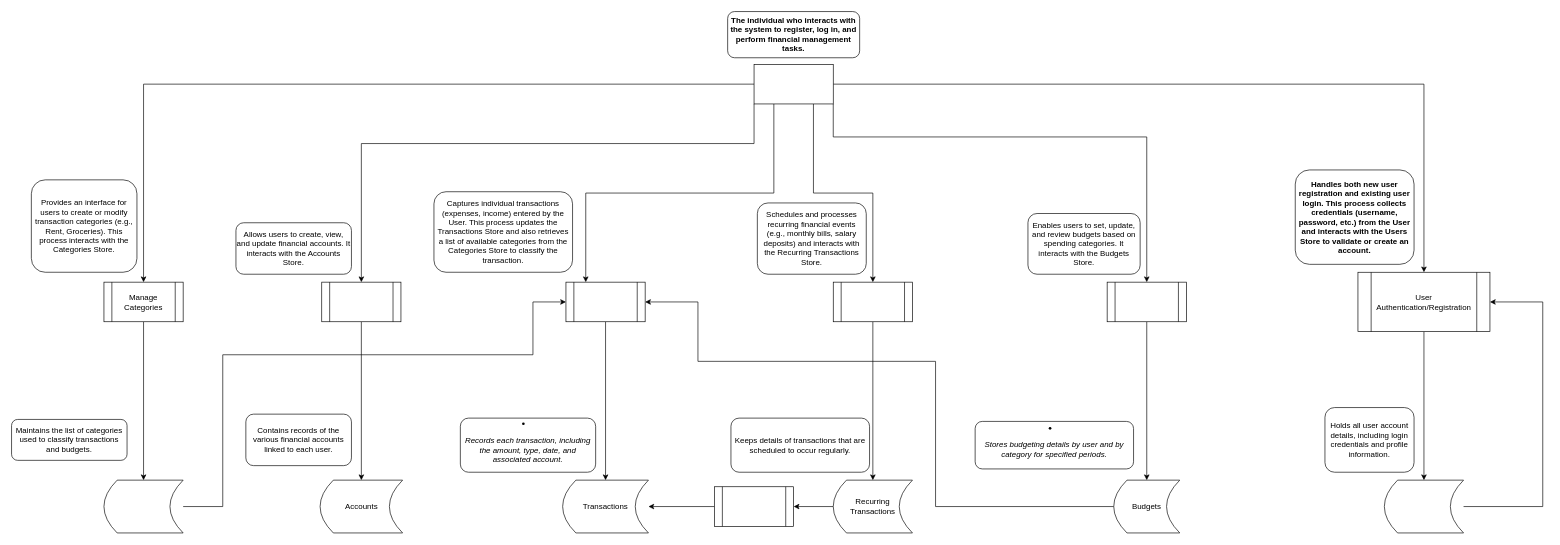
The diagram is 1560 pixels wide and 545 high, and some of its shapes have lost their labels. The centre of each missing label's shape, as x and y in pixels:
Categories: the point at 143,506
Manage Accounts: the point at 361,301
Manage Budgets: the point at 1146,301
Manage Recurring Transactions: the point at 872,301
Post Recurring Transactions: the point at 754,506
Record Transaction: the point at 605,301
User: the point at 793,84
Users: the point at 1424,506
